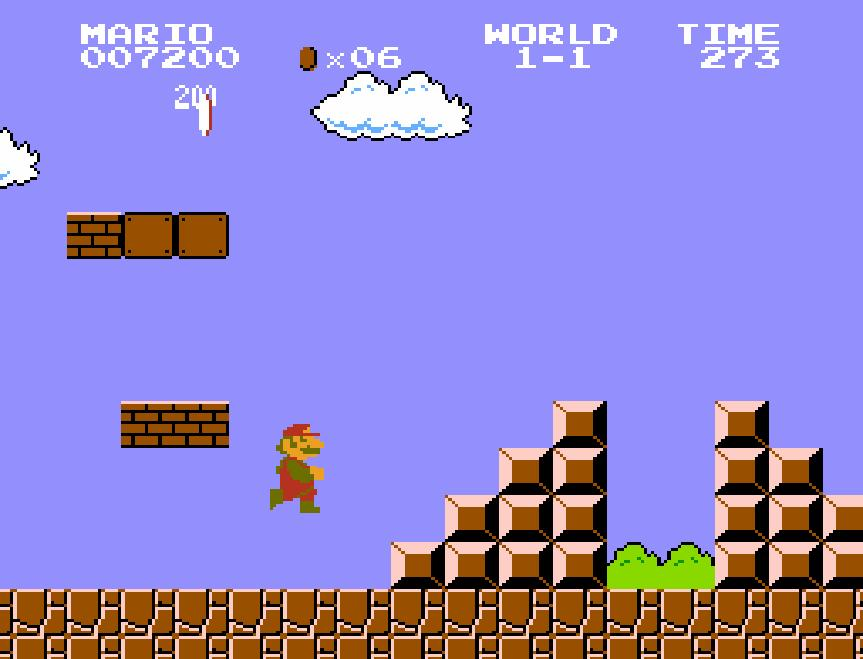big_mario: (267, 416, 325, 514)
